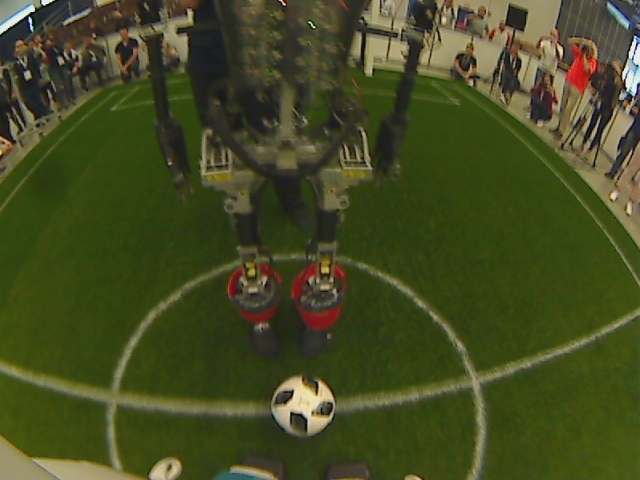ball: (268, 371, 339, 440)
